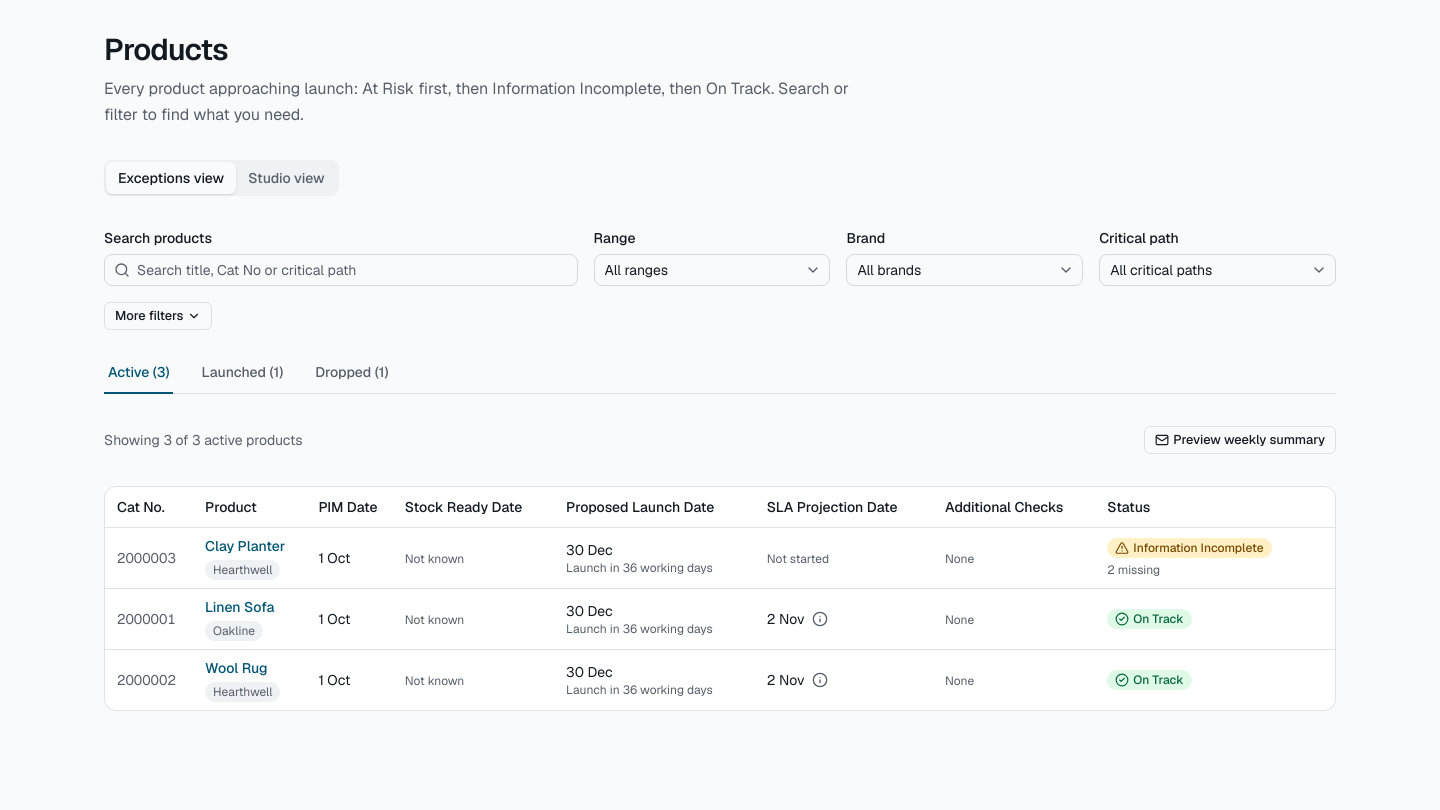
ProductsView range, critical path and tabs › switches tab and says which kind of product is being shown
Click the tab "Launched (1)": (242,378) [198,362,287,394]
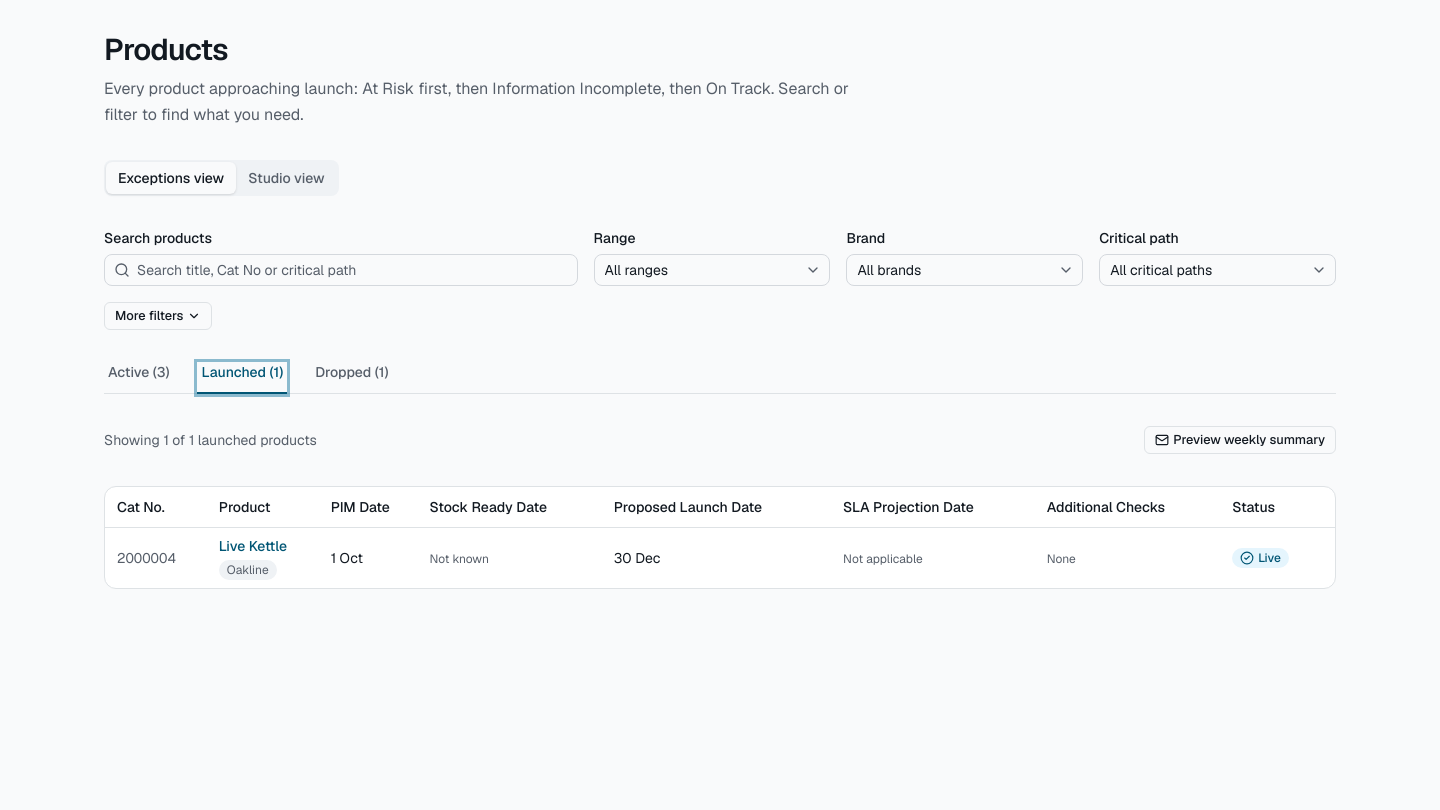
Expected: the text "Showing 1 of 1 launched products" is shown, [104,430,317,450]
